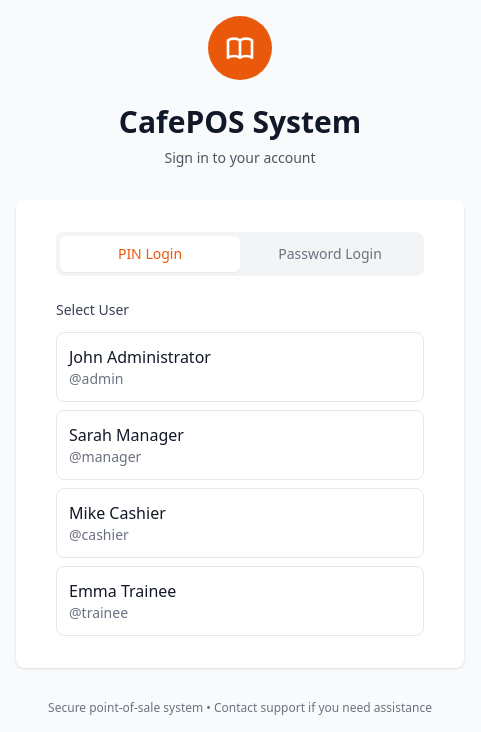
Scenario: AuthenticationForm › PIN Login Functionality › should clear PIN on clear button click
Click the button "John Administrator @admin" at (140, 357), box [56, 332, 424, 402]
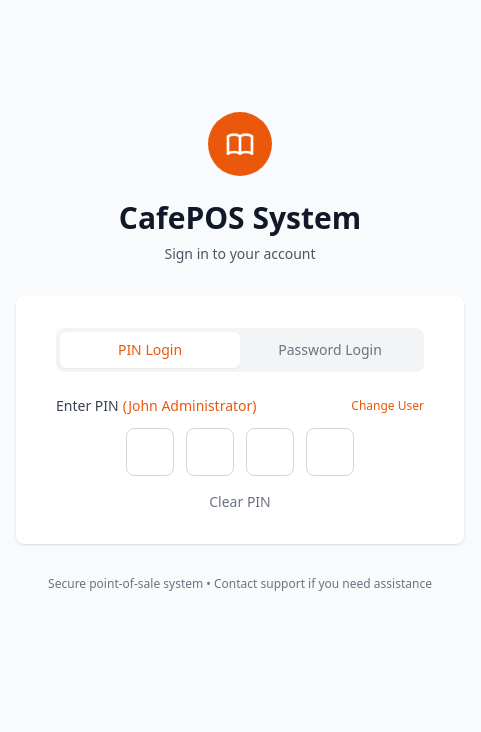
Type "1" into the 1st password field at (150, 452), box [126, 428, 174, 476]
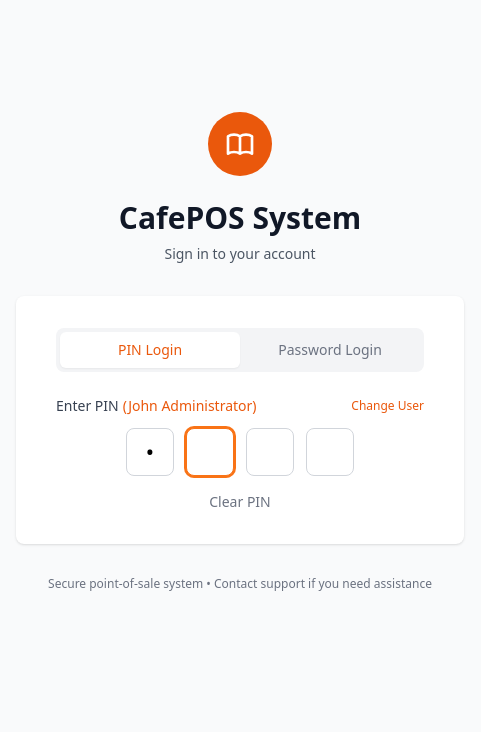
Type "2" into the 2nd password field at (210, 452), box [186, 428, 234, 476]
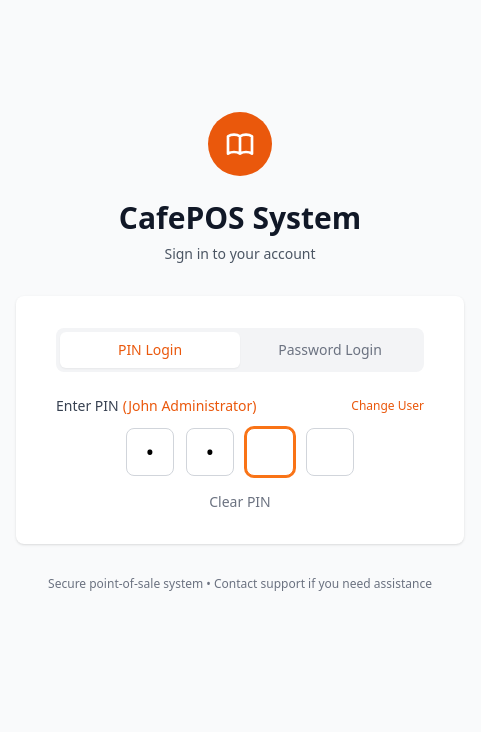
Click the button "Clear PIN" at (240, 502), box [209, 492, 271, 512]
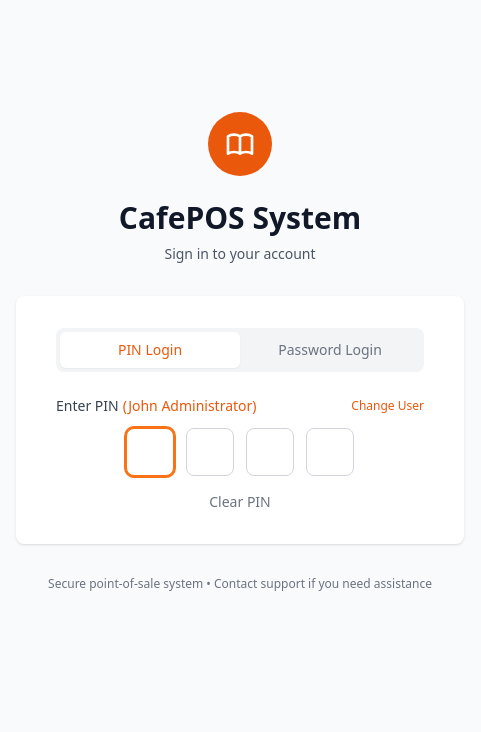
Now the 1st password field is empty, box [126, 428, 174, 476]
Now the 2nd password field is empty, box [186, 428, 234, 476]
